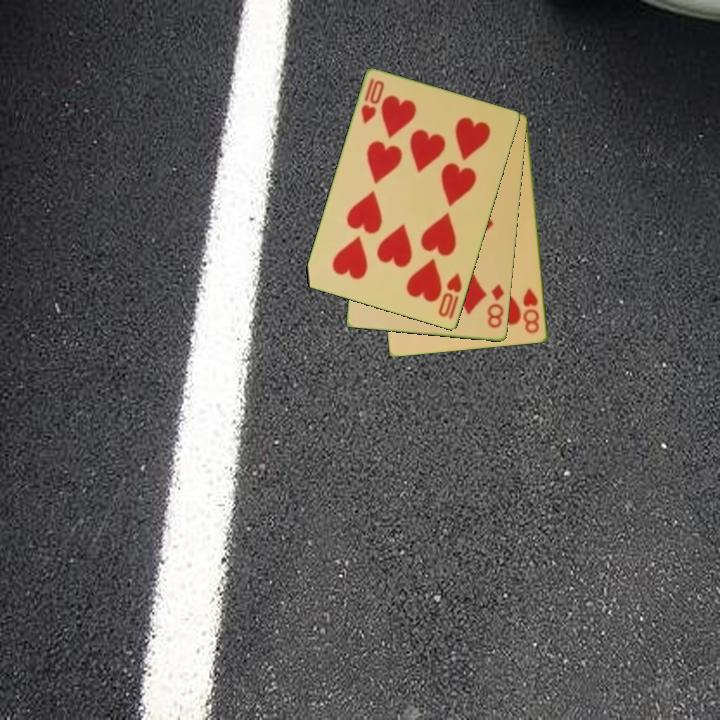10h: (435, 269, 465, 323), (358, 75, 387, 127)
8d: (484, 280, 507, 331)
8h: (520, 285, 542, 337)
